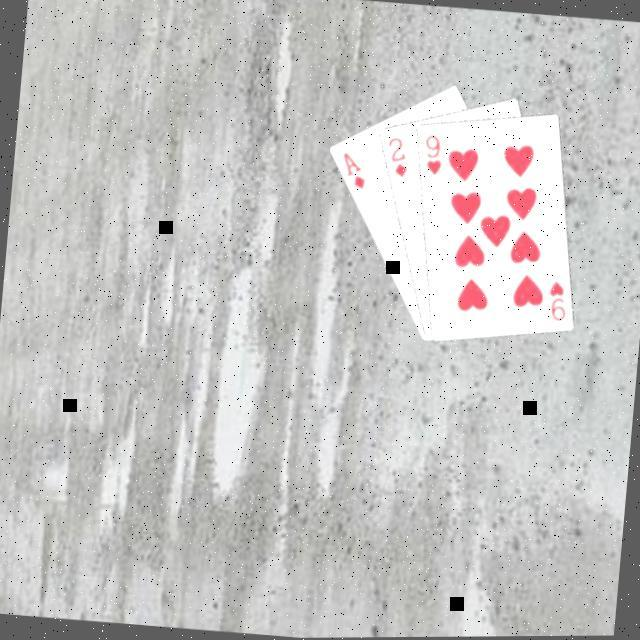2D: (379, 135, 410, 182)
9H: (416, 132, 444, 180), (540, 279, 568, 327)
AD: (334, 150, 369, 194)
